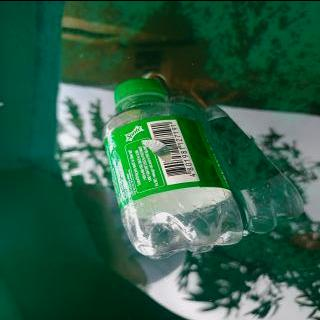bottle: (102, 76, 245, 260)
